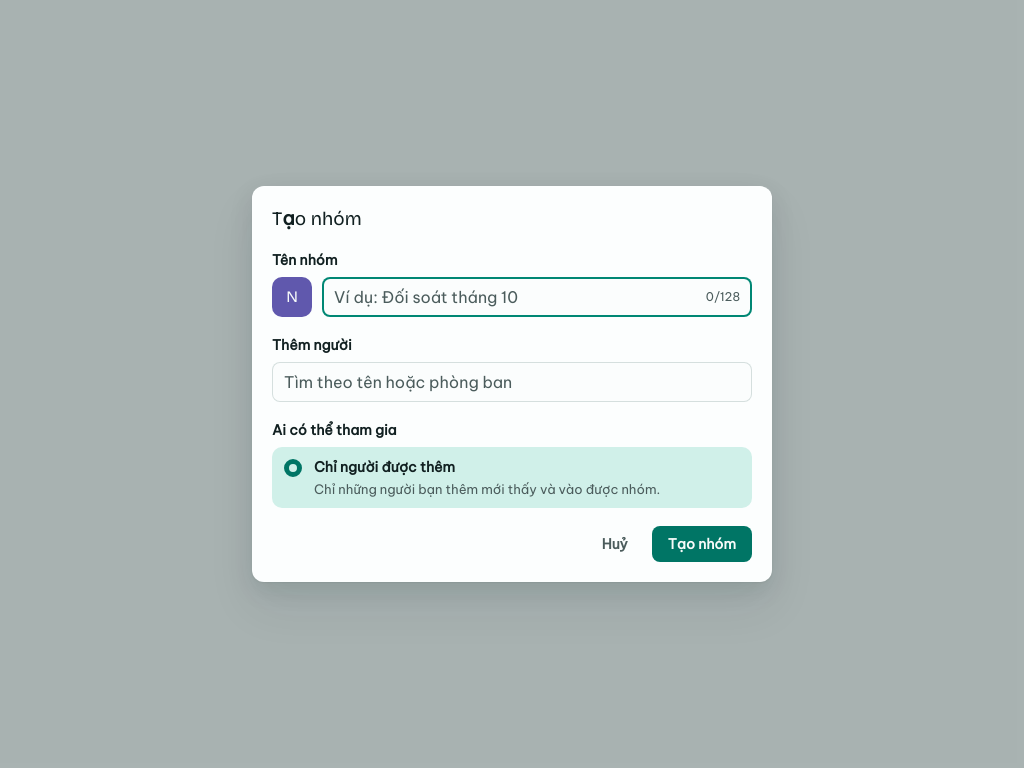
Test: CreateSpaceDialog › asks for a name before creating
Click the button "Tạo nhóm" at [702, 544], box left=652, top=526, right=752, bottom=562
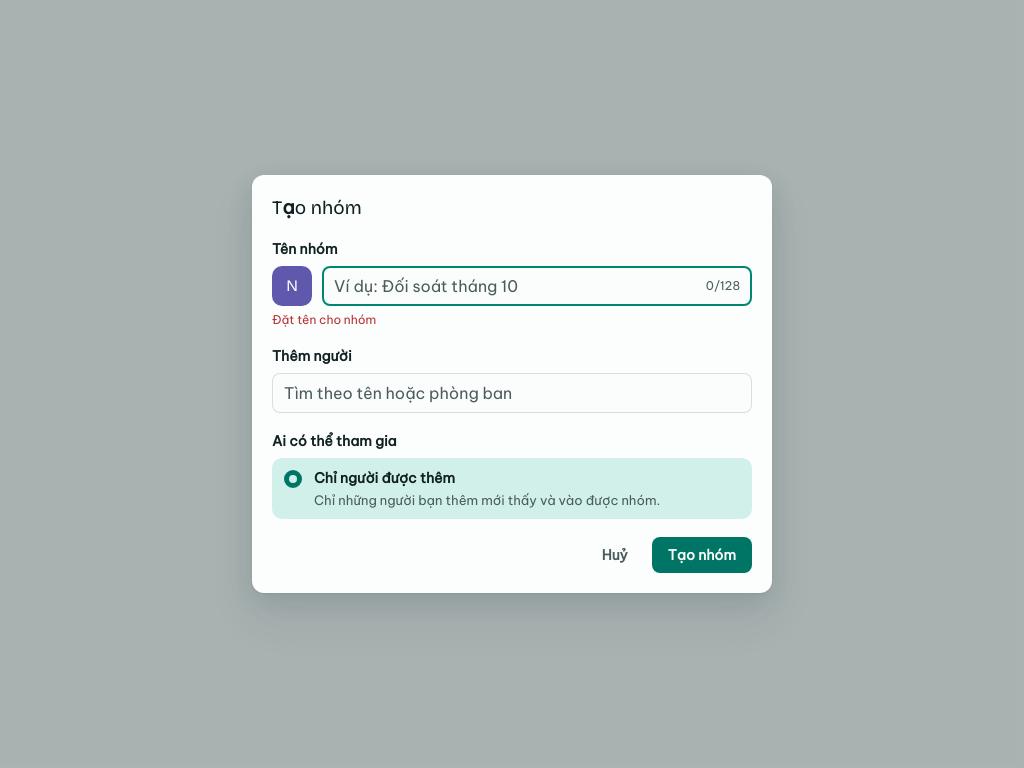
Check: the text "Đặt tên cho nhóm" is shown, box left=272, top=312, right=376, bottom=327
